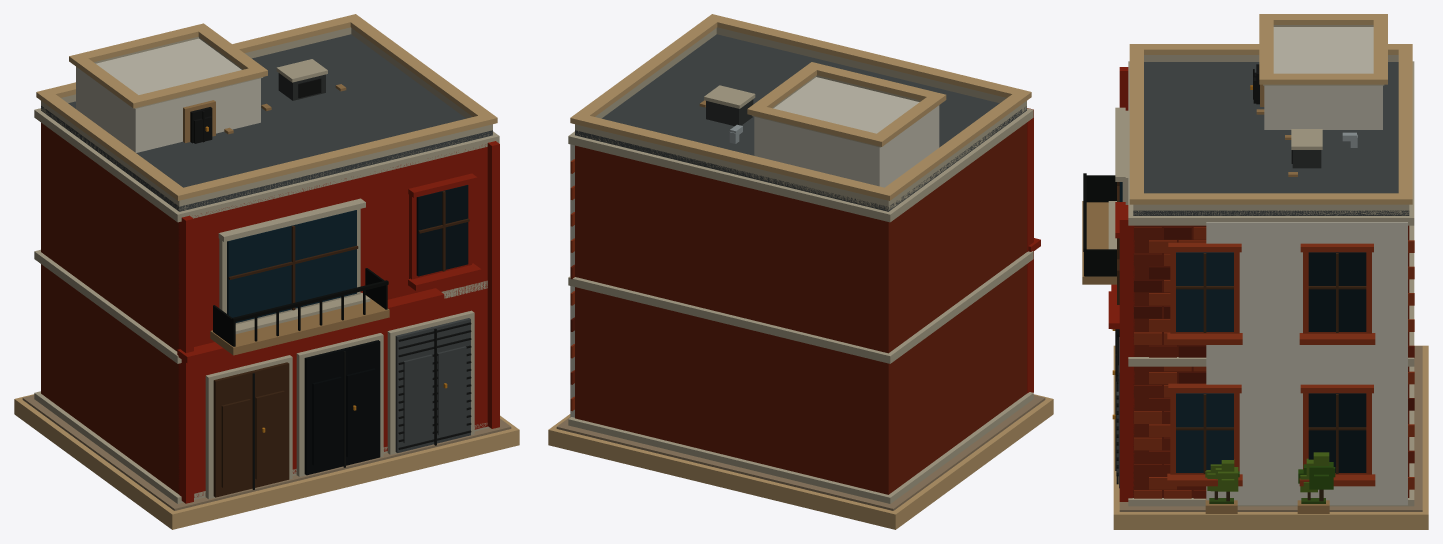
File: SM_Mapa_030.fbx
3 views of the same model, side by side, from view 1: azimuth 30°, elevation 25°; view 2: azimuth 150°, elevation 25°; view 3: azimuth 270°, elevation 25° (orthographic).
Parts seen in each view (by area): view 1: SM_Mapa_030; view 2: SM_Mapa_030; view 3: SM_Mapa_030.
Boxes of the visible parts, x1,y1,x2,y2 form: SM_Mapa_030: (14, 14, 519, 529); SM_Mapa_030: (548, 14, 1053, 529); SM_Mapa_030: (1082, 14, 1428, 529).
Bounding box in the file's own units: 8 × 6.79 × 7.86.
